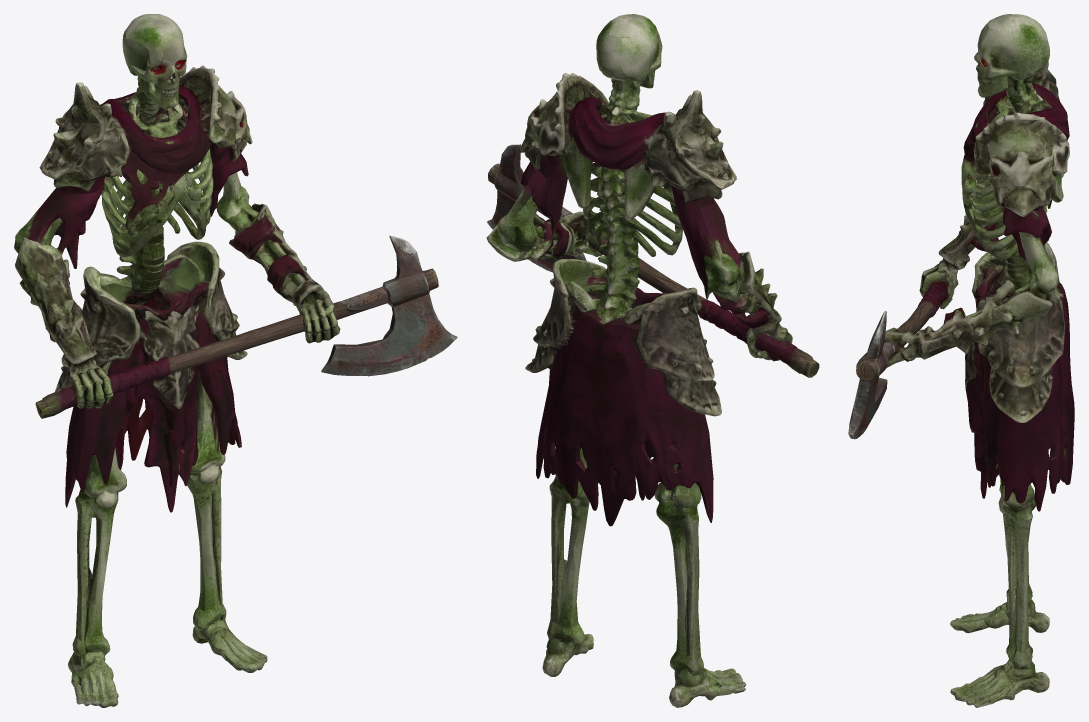
The model's file is mdl-skeleton.glb.
The picture shows the model from 3 angles, left to right: view 1: azimuth 30°, elevation 25°; view 2: azimuth 150°, elevation 25°; view 3: azimuth 270°, elevation 25°; orthographic projection. The views are drawn at different scales.
Size of the model in its own units: 1.13 by 1.9 by 0.6032.
Materials: 1 (1 with a texture image).
